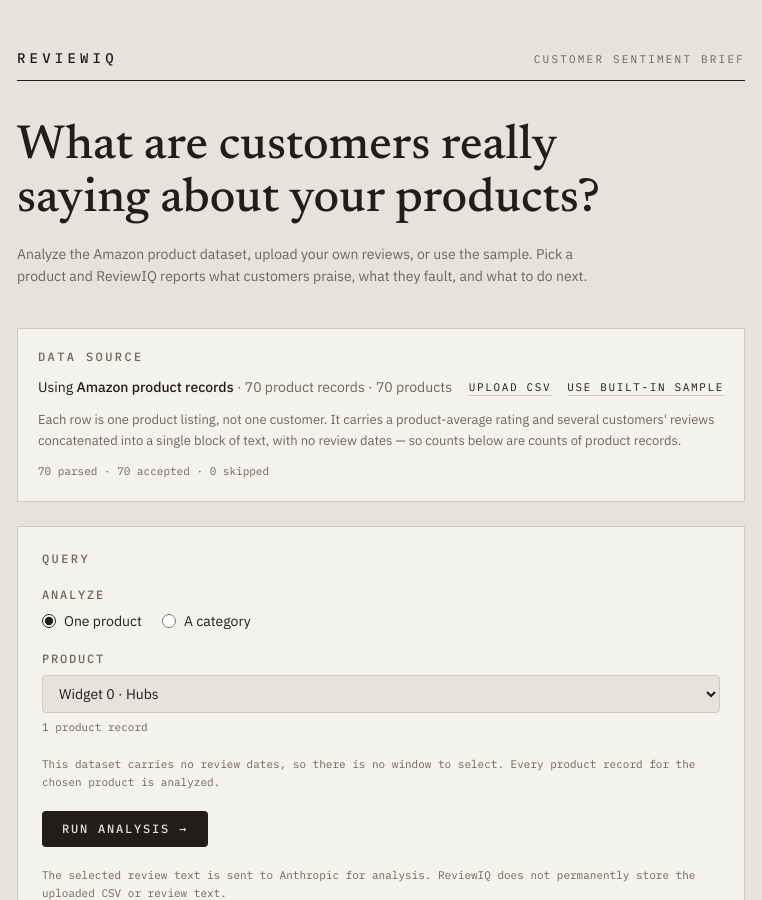
confirmation dialog › never appears for a selection over the ceiling
The width and height of the screenshot is (762, 900).
Click the radio button labelled "A category": point(169, 621) [162,614,176,628]
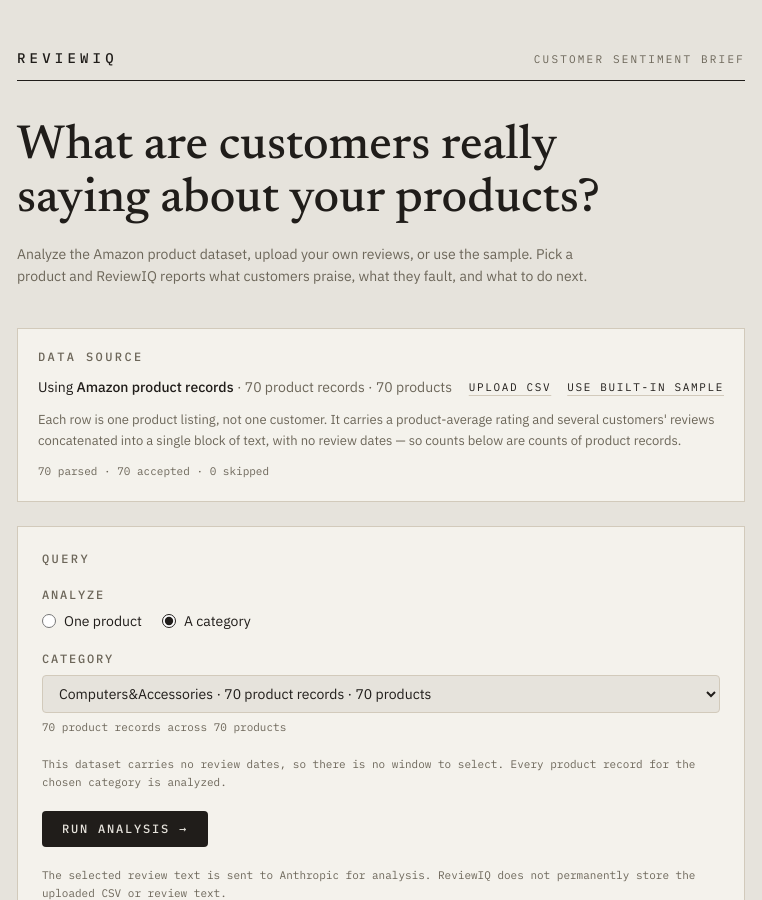
Click the submit button: point(125, 830) [42,812,208,848]
(page scrolled)
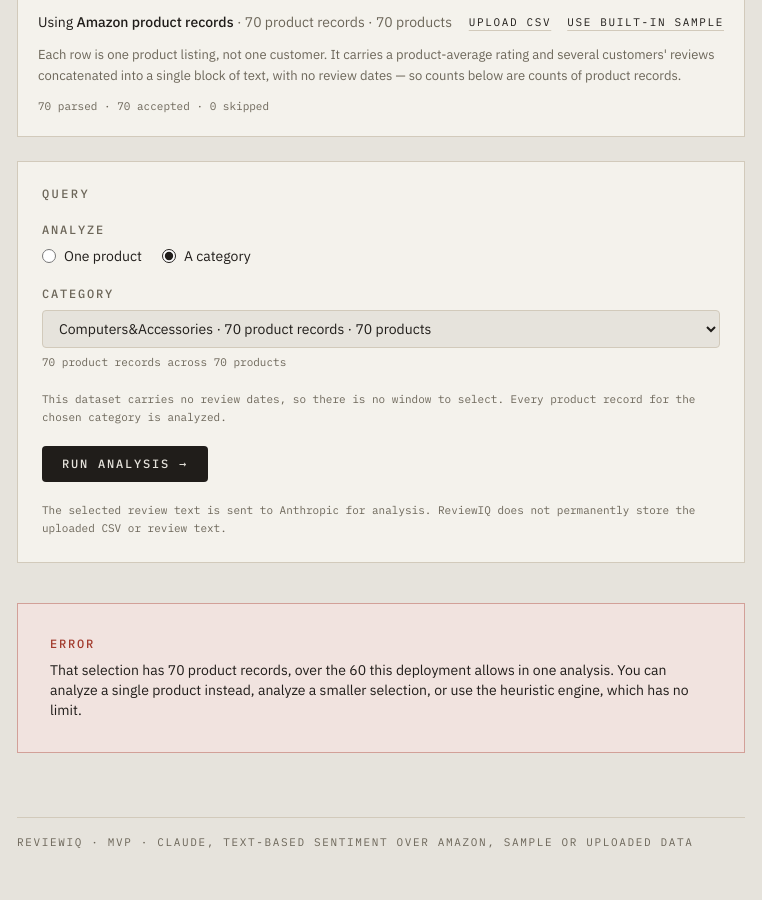
Check: the text "over the 60 this deployment allows in one analysis" is shown, box [50,661,689,719]
